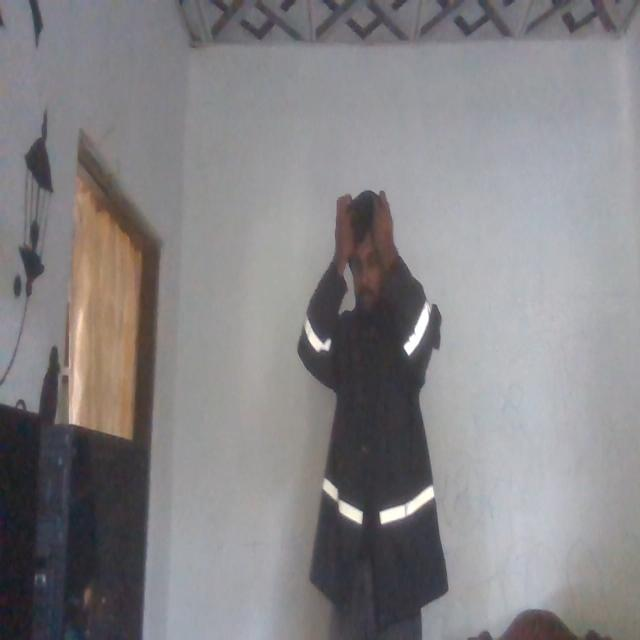Jacket_Wearer: (287, 265, 443, 601)
Person: (282, 178, 442, 640)
